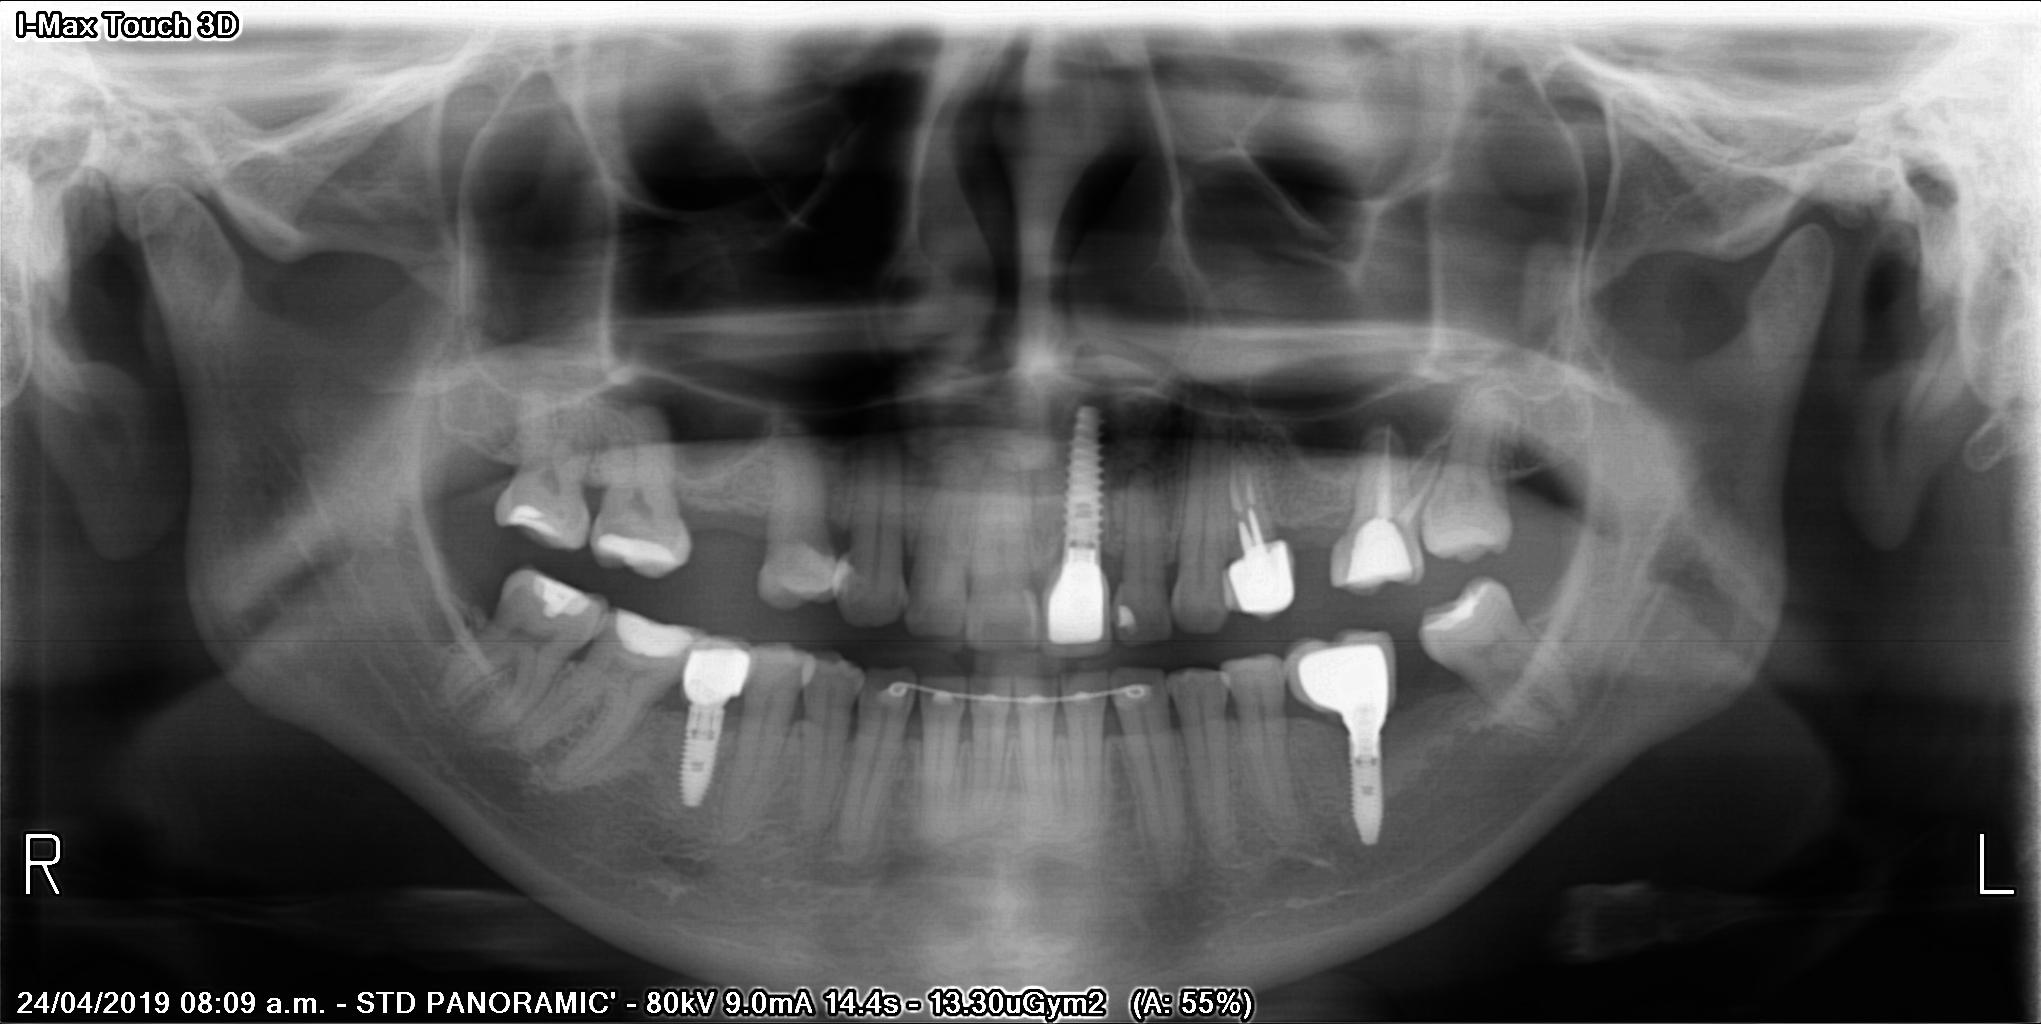Çürük: (1291, 624, 1393, 716), (1323, 516, 1427, 585), (1225, 539, 1299, 616), (684, 645, 756, 704), (1054, 563, 1109, 633), (611, 609, 679, 656), (531, 569, 592, 620), (599, 532, 683, 567), (509, 505, 569, 550), (1116, 610, 1135, 636)
Çürük Bölgesi: (598, 515, 654, 542), (545, 505, 594, 529)
